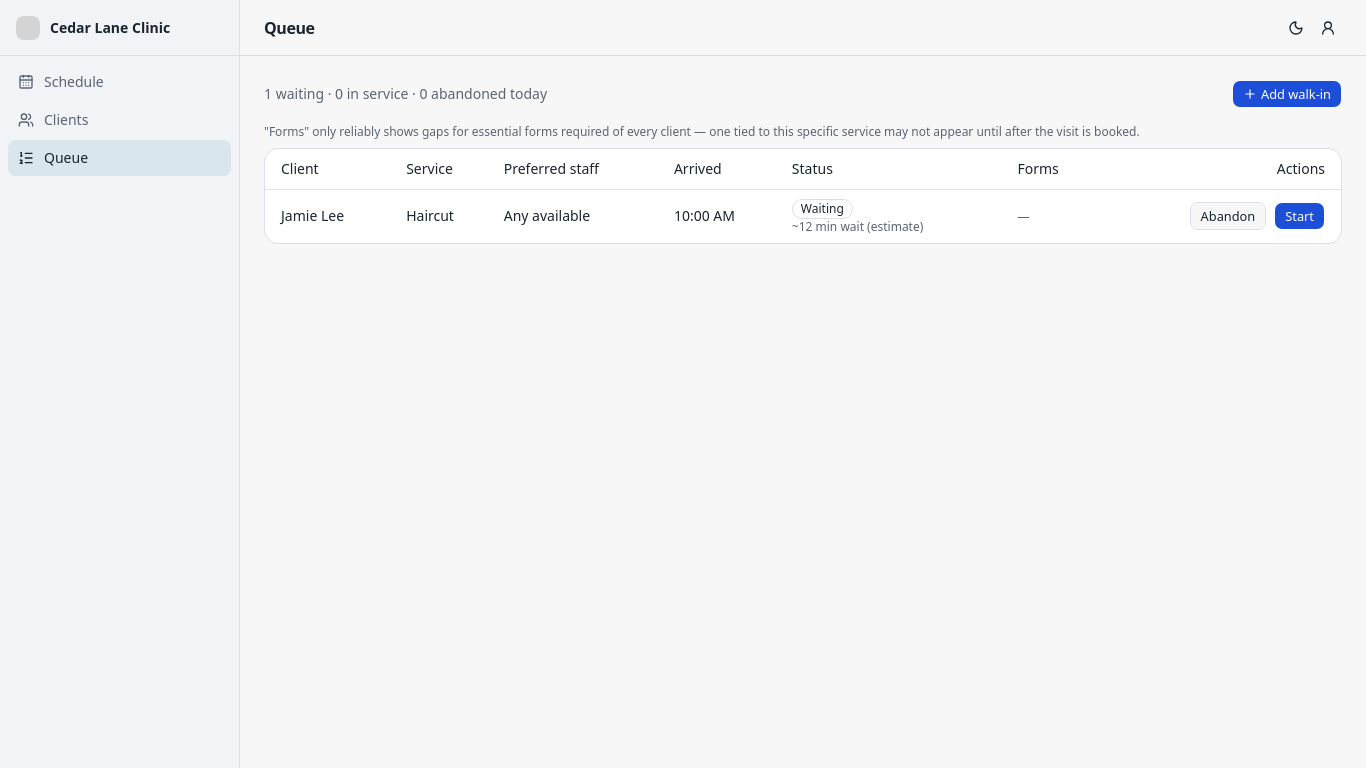
Test: a busy room or device is shown as its own, separate reason
Click the button "Start".
click(1300, 216)  # box [1274,202,1325,230]
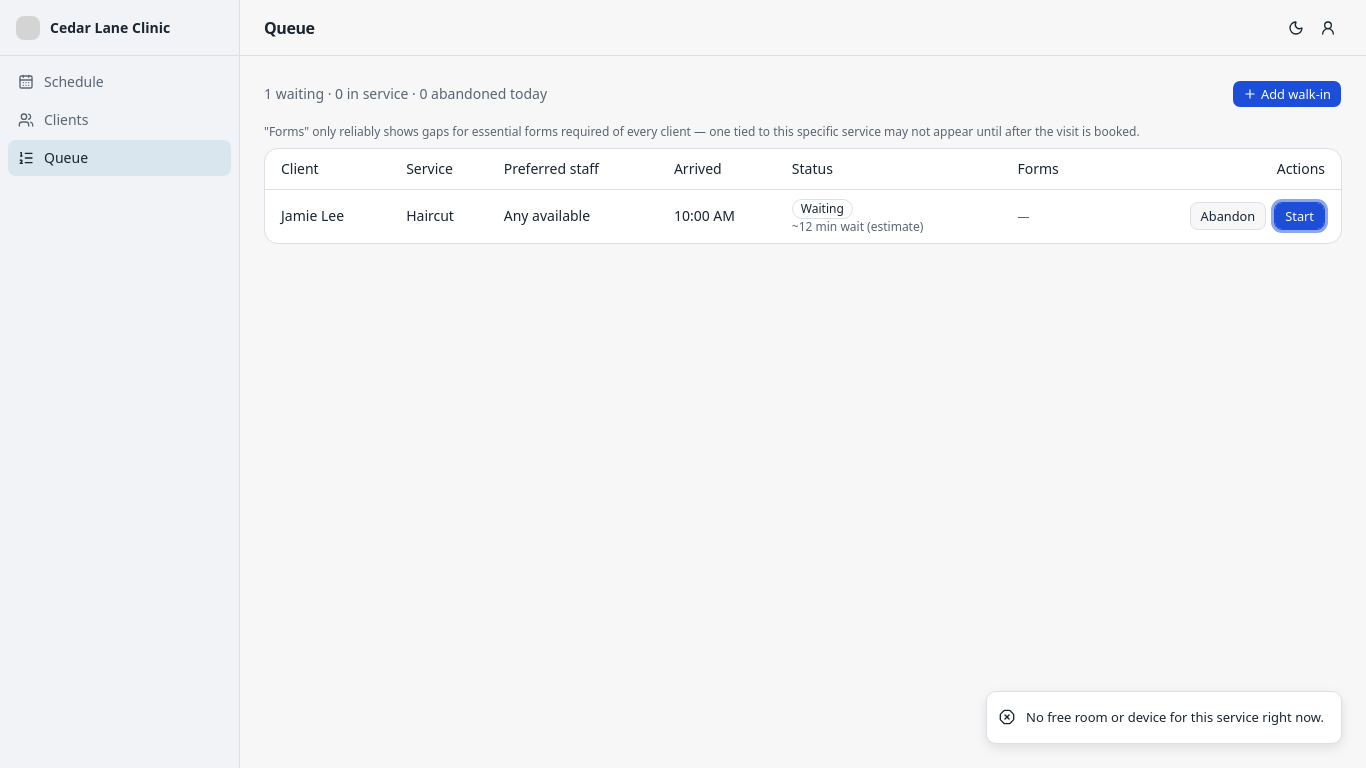
Now the text "No free room or device for this service right now." is shown, box [1026,708,1324,727]
